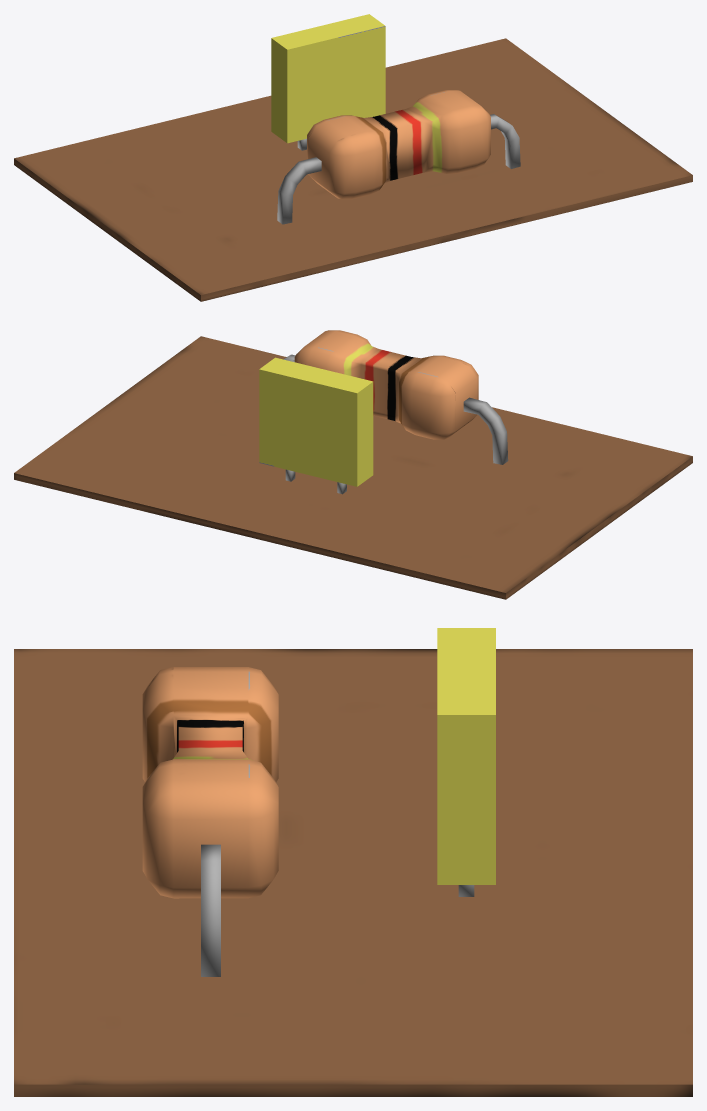
File: LPF_RC.gltf
The picture shows the model from 3 angles, top to bottom: view 1: azimuth 30°, elevation 25°; view 2: azimuth 150°, elevation 25°; view 3: azimuth 270°, elevation 25°; orthographic projection. The views are drawn at different scales.
Parts seen in each view (by area): view 1: capacitor; view 2: capacitor; view 3: capacitor.
Boxes of the visible parts, x1,y1,x2,y2 form: capacitor: (14,14,692,301); capacitor: (14,330,692,599); capacitor: (14,628,692,1096).
Bounding box in the file's own units: 0.1362 × 0.0312 × 0.0897.
1 material, 1 textured.
